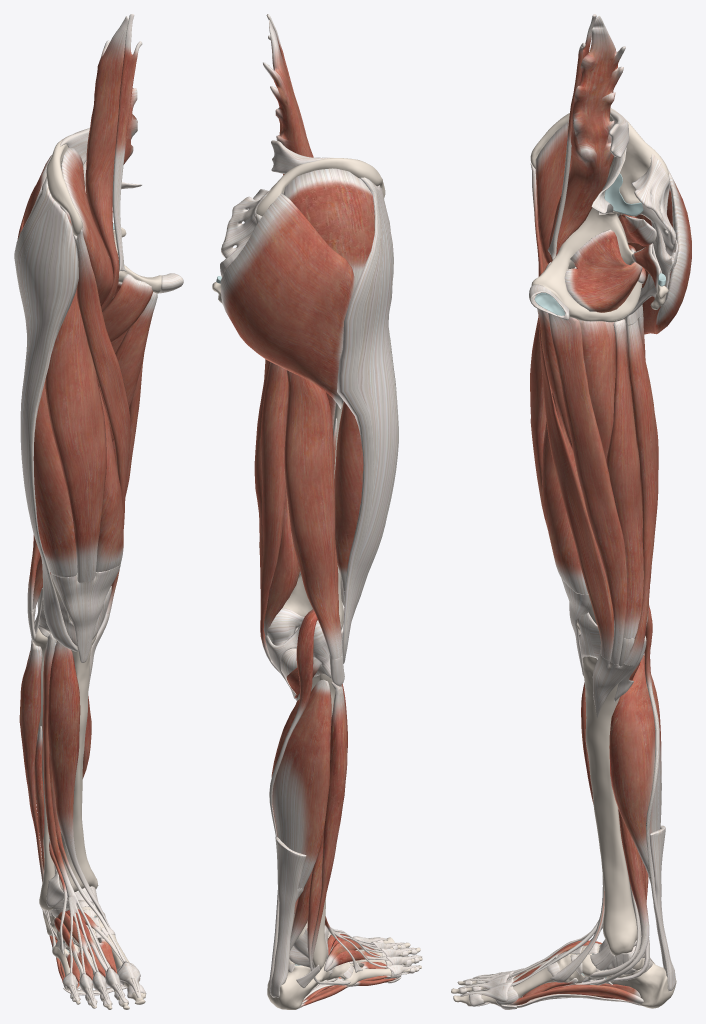
File: lower-muscles-soleus.glb
The picture shows the model from 3 angles, left to right: view 1: azimuth 30°, elevation 25°; view 2: azimuth 150°, elevation 25°; view 3: azimuth 270°, elevation 25°; orthographic projection. The views are drawn at different scales.
Parts seen in each view (by area): view 1: Iliotibial tract.r, Rectus femoris.r, Psoas major.r, Tibialis anterior muscle.r, Sartorius muscle.r, Vastus lateralis muscle.r, Fibularis longus muscle.r, Quadriceps common tendon and patellar ligament.r, Iliacus muscle.r, Vastus medialis muscle.r, Tibia.r, Psoas minor.r (+18 smaller); view 2: Gluteus maximus muscle.r, Iliotibial tract.r, Long head of biceps femoris.r, Soleus muscle.r, Gluteus medius muscle.r, Semitendinosus muscle.r, Vastus lateralis muscle.r, Fibularis longus muscle.r, Semimembranosus muscle.r, Calcaneal tendon.r, Psoas major.r, Plantaris muscle.r (+11 smaller); view 3: Gracilis muscle.r, Psoas major.r, Tibia.r, Soleus muscle.r, Semimembranosus muscle.r, Hip bone.r, Sartorius muscle.r, Semitendinosus muscle.r, Obturator internus.r, Vastus medialis muscle.r, Adductor magnus.r, Gluteus maximus muscle.r (+22 smaller).
Part boxes in pixels (<box>): Iliotibial tract.r: <box>14,177,78,651</box>; Rectus femoris.r: <box>45,290,106,582</box>; Psoas major.r: <box>85,16,137,311</box>; Tibialis anterior muscle.r: <box>47,641,110,927</box>; Sartorius muscle.r: <box>73,229,130,613</box>; Vastus lateralis muscle.r: <box>33,379,77,577</box>; Fibularis longus muscle.r: <box>19,639,57,940</box>; Quadriceps common tendon and patellar ligament.r: <box>51,565,120,662</box>; Iliacus muscle.r: <box>61,147,113,306</box>; Vastus medialis muscle.r: <box>96,387,123,572</box>; Tibia.r: <box>49,632,98,891</box>; Psoas minor.r: <box>112,14,142,271</box>; Gluteus maximus muscle.r: <box>220,193,355,408</box>; Iliotibial tract.r: <box>337,177,398,663</box>; Long head of biceps femoris.r: <box>284,370,342,659</box>; Soleus muscle.r: <box>271,679,331,888</box>; Gluteus medius muscle.r: <box>283,168,374,287</box>; Semitendinosus muscle.r: <box>260,362,288,661</box>; Vastus lateralis muscle.r: <box>334,401,363,591</box>; Fibularis longus muscle.r: <box>311,682,347,982</box>; Semimembranosus muscle.r: <box>254,361,299,635</box>; Calcaneal tendon.r: <box>270,837,306,997</box>; Psoas major.r: <box>263,20,313,175</box>; Plantaris muscle.r: <box>269,609,317,991</box>; Gracilis muscle.r: <box>548,313,627,664</box>; Psoas major.r: <box>548,15,625,261</box>; Tibia.r: <box>582,656,641,956</box>; Soleus muscle.r: <box>609,655,661,876</box>; Semimembranosus muscle.r: <box>606,319,651,638</box>; Hip bone.r: <box>530,108,668,322</box>; Sartorius muscle.r: <box>530,163,613,660</box>; Semitendinosus muscle.r: <box>624,319,658,665</box>; Obturator internus.r: <box>564,229,642,312</box>; Vastus medialis muscle.r: <box>542,393,588,594</box>; Adductor magnus.r: <box>578,319,615,499</box>; Gluteus maximus muscle.r: <box>624,150,691,334</box>.
Bounding box in the file's own units: 0.1781 × 1.15 × 0.2463.
48 materials, 13 textured.
